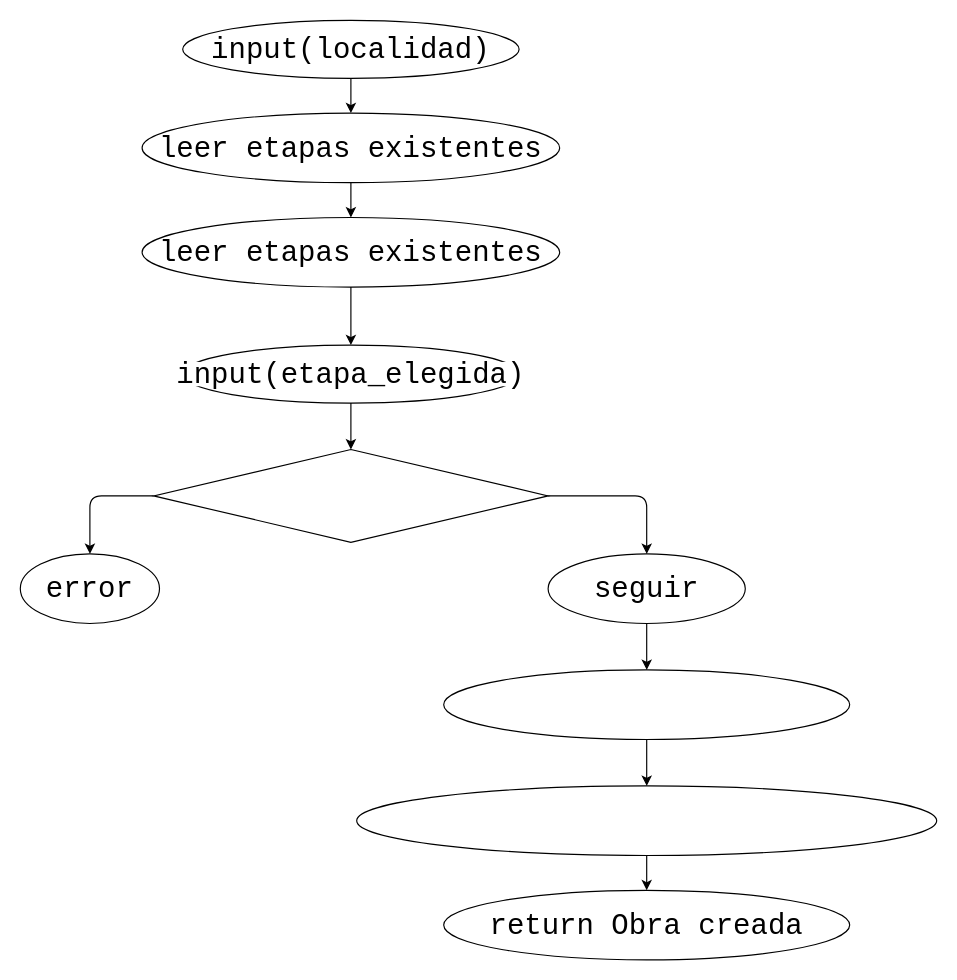
This 957x980 diagram has some shape labels left out. The centre of each missing label's shape, as x and y in pixels:
"buscar o crear Etapa" goes at pixel 646 704.
"INSERT Obra(localidad, etapa_fk)" goes at pixel 646 820.
"¿etapa válida?" goes at pixel 350 495.
